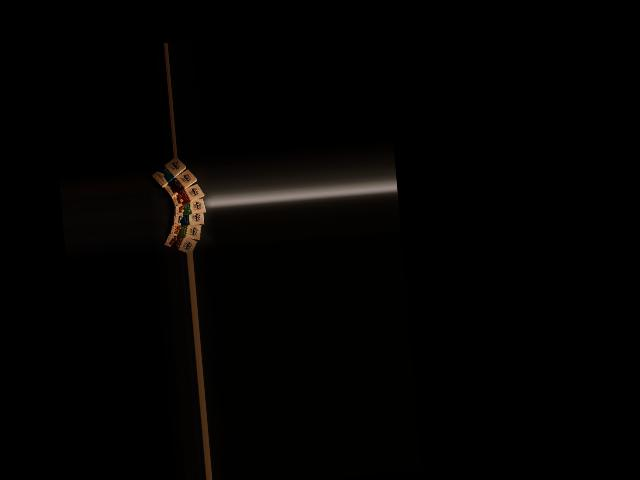chocolate: (148, 157, 189, 188)
